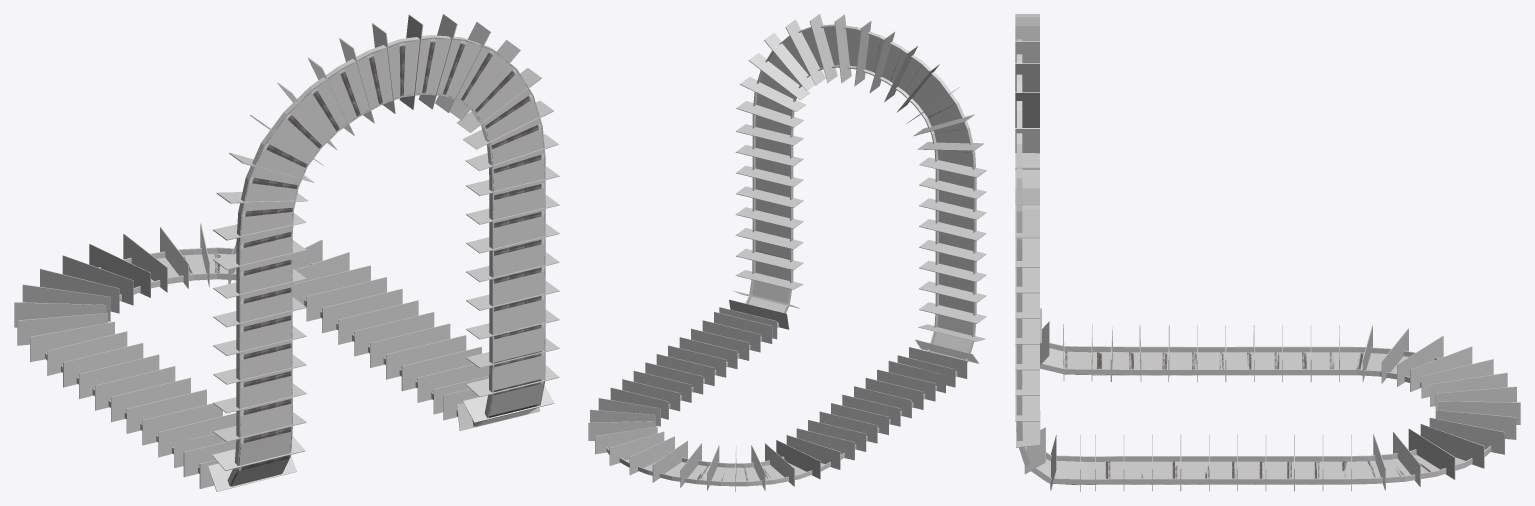
Rendered from AITrain3Applied.fbx.
3 views of the same model, side by side, from view 1: azimuth 30°, elevation 25°; view 2: azimuth 150°, elevation 25°; view 3: azimuth 270°, elevation 25° (orthographic). The views are drawn at different scales.
Parts seen in each view (by area): view 1: TrackHolo, TrackStructure, TrackWalls, AICheckpoint3, AICheckpoint.024, AICheckpoint.025, AICheckpoint.003, AICheckpoint4, AICheckpoint.026, AICheckpoint2, AICheckpoint.005, AICheckpoint.029 (+30 smaller); view 2: TrackFloor, TrackHolo, TrackWalls, AICheckpoint.055, AICheckpoint.054, AICheckpoint12\, AICheckpoint3, AICheckpoint.056, AICheckpoint13, AICheckpoint2, AICheckpoint.053, AICheckpoint11 (+51 smaller); view 3: TrackWalls, TrackHolo, TrackFloor, TrackStructure, AICheckpoint13, AICheckpoint12\, AICheckpoint11, AICheckpoint10, AICheckpoint7, AICheckpoint8, AICheckpoint14, AICheckpoint6 (+15 smaller).
Part boxes in pixels (x1,y1,x2,y2): TrackHolo: (151,38,544,486); TrackStructure: (78,37,545,486); TrackWalls: (45,35,545,485); AICheckpoint3: (30,321,114,361); AICheckpoint.024: (306,277,386,321); AICheckpoint.025: (322,288,402,332); AICheckpoint.003: (126,389,206,433); AICheckpoint4: (17,313,107,345); AICheckpoint.026: (338,300,418,344); AICheckpoint2: (47,331,127,375); AICheckpoint.005: (95,366,175,410); AICheckpoint.029: (386,335,466,379); TrackFloor: (625,27,973,481); TrackHolo: (628,105,973,481); TrackWalls: (606,24,976,486); AICheckpoint.055: (764,33,815,90); AICheckpoint.054: (785,19,825,85); AICheckpoint12\: (609,431,664,465); AICheckpoint3: (786,435,840,469); AICheckpoint.056: (748,53,810,99); AICheckpoint13: (595,426,657,454); AICheckpoint2: (796,428,854,460); AICheckpoint.053: (809,14,837,82); AICheckpoint11: (629,436,674,475); TrackWalls: (1016,39,1491,484); TrackHolo: (1040,351,1439,478); TrackFloor: (1025,348,1485,484); TrackStructure: (1016,351,1490,485); AICheckpoint13: (1420,424,1484,468); AICheckpoint12\: (1429,417,1504,454); AICheckpoint11: (1435,410,1516,439); AICheckpoint10: (1438,401,1520,424); AICheckpoint7: (1421,359,1493,398); AICheckpoint8: (1430,372,1507,406); AICheckpoint14: (1408,428,1455,479); AICheckpoint6: (1410,346,1472,391).
Bounding box in the file's own units: 25002 × 31329 × 36696.
